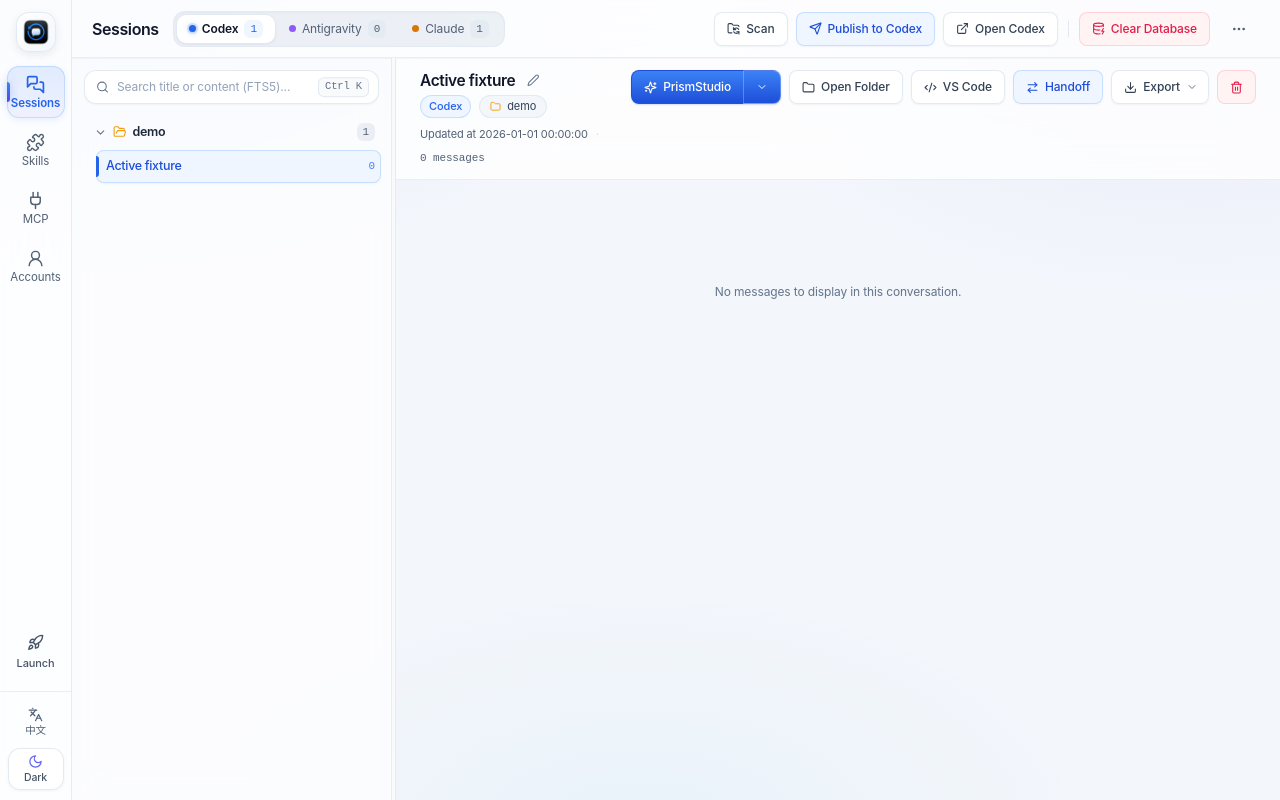
Test: archive option loads and hides archived conversations
The width and height of the screenshot is (1280, 800).
Expected: the text "Active fixture" is shown, [106, 158, 182, 173]
Expected: the text "Archived fixture" is not shown
What coordinates should you click on to do the following:
click the button named "More"
I would click on:
 (1239, 28)
Its box is [1218, 12, 1260, 46].
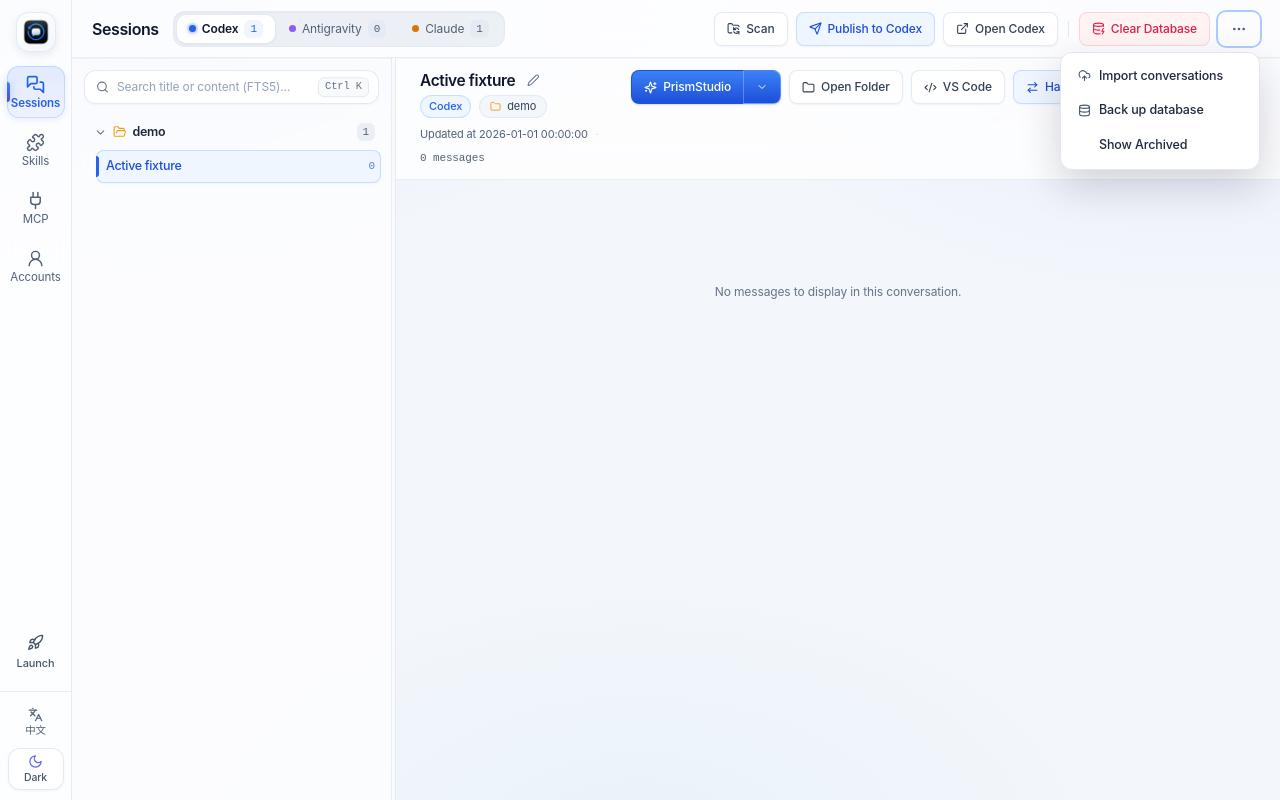
What coordinates should you click on to do the following:
click the menu item "Show Archived"
I would click on:
 (1160, 145)
Its box is [1067, 128, 1253, 163].
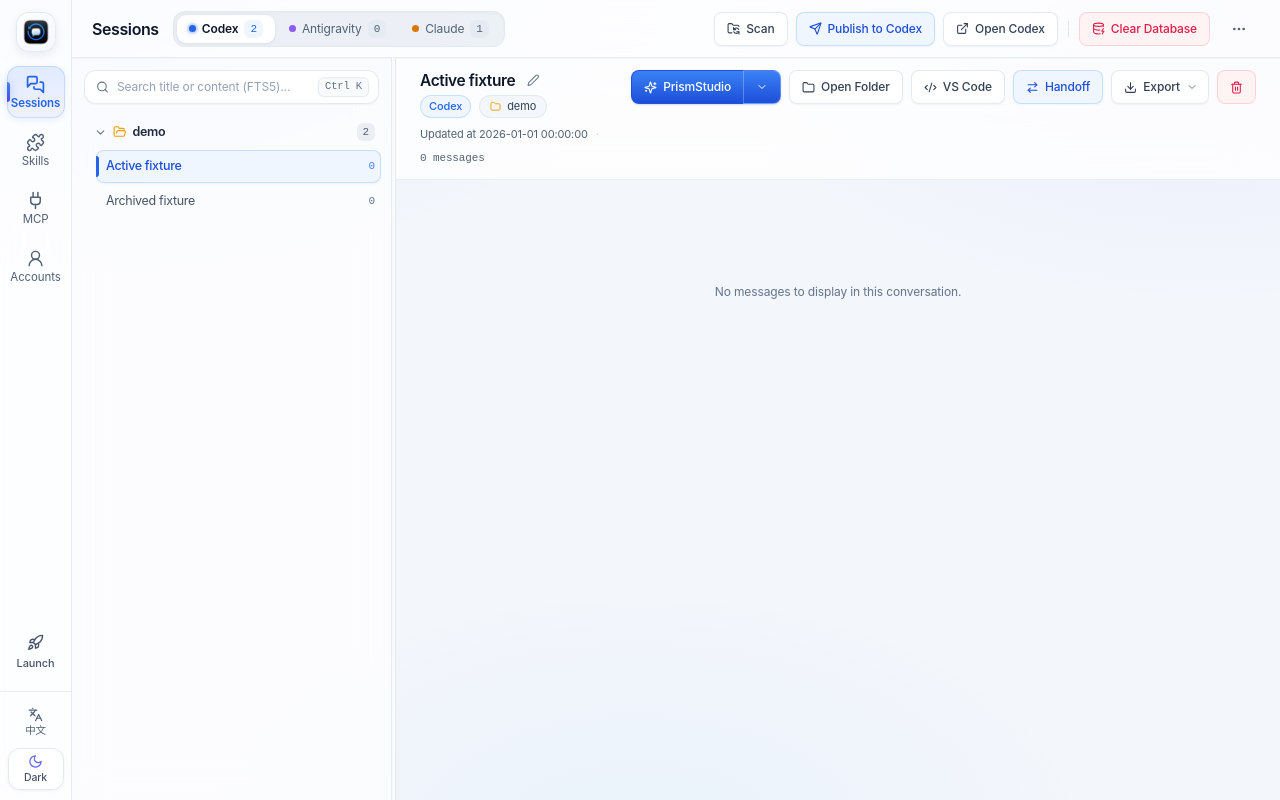
Result: the text "Archived fixture" is shown at [106, 193, 195, 208]
What coordinates should you click on to do the following:
click the button named "More"
I would click on:
 (1239, 28)
Its box is [1218, 12, 1260, 46].
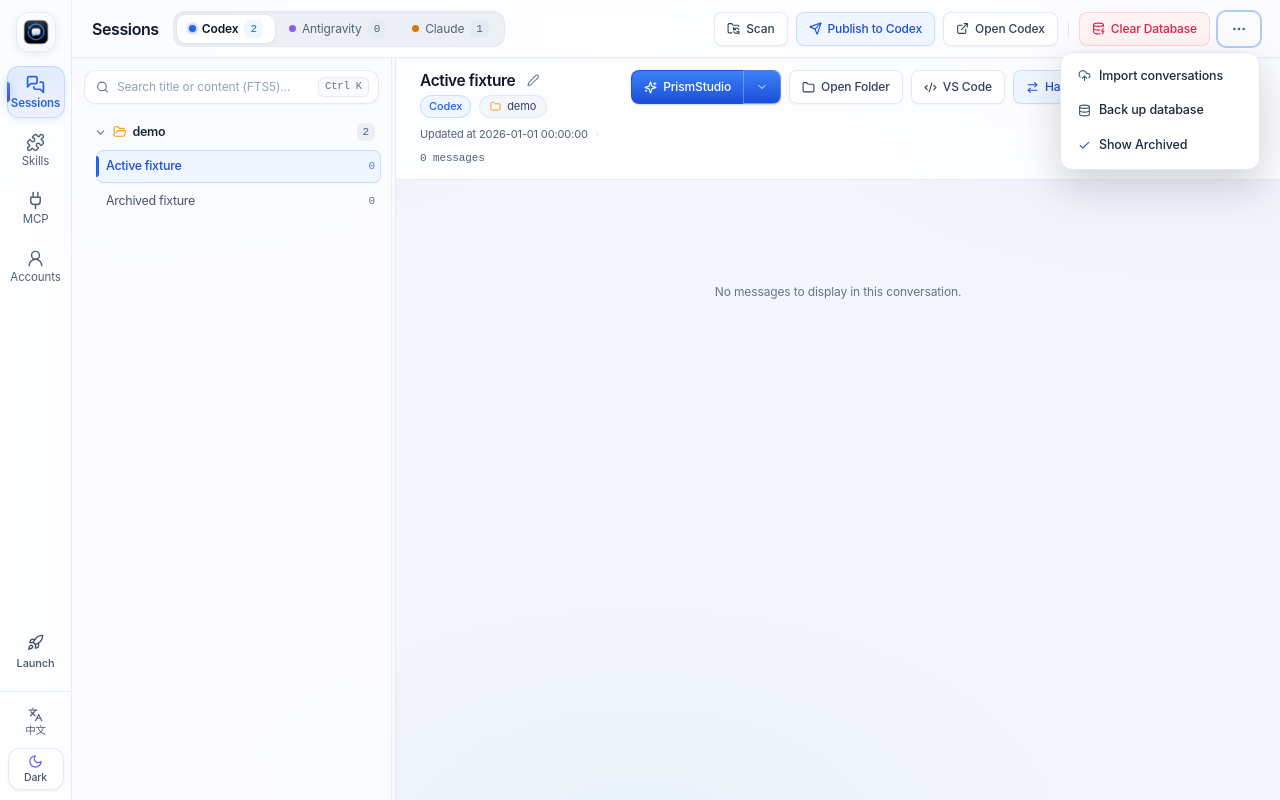
Result: the menu item "Show Archived" is checked
What coordinates should you click on to do the following:
click the menu item "Show Archived"
I would click on:
 (1160, 145)
Its box is [1067, 128, 1253, 163].
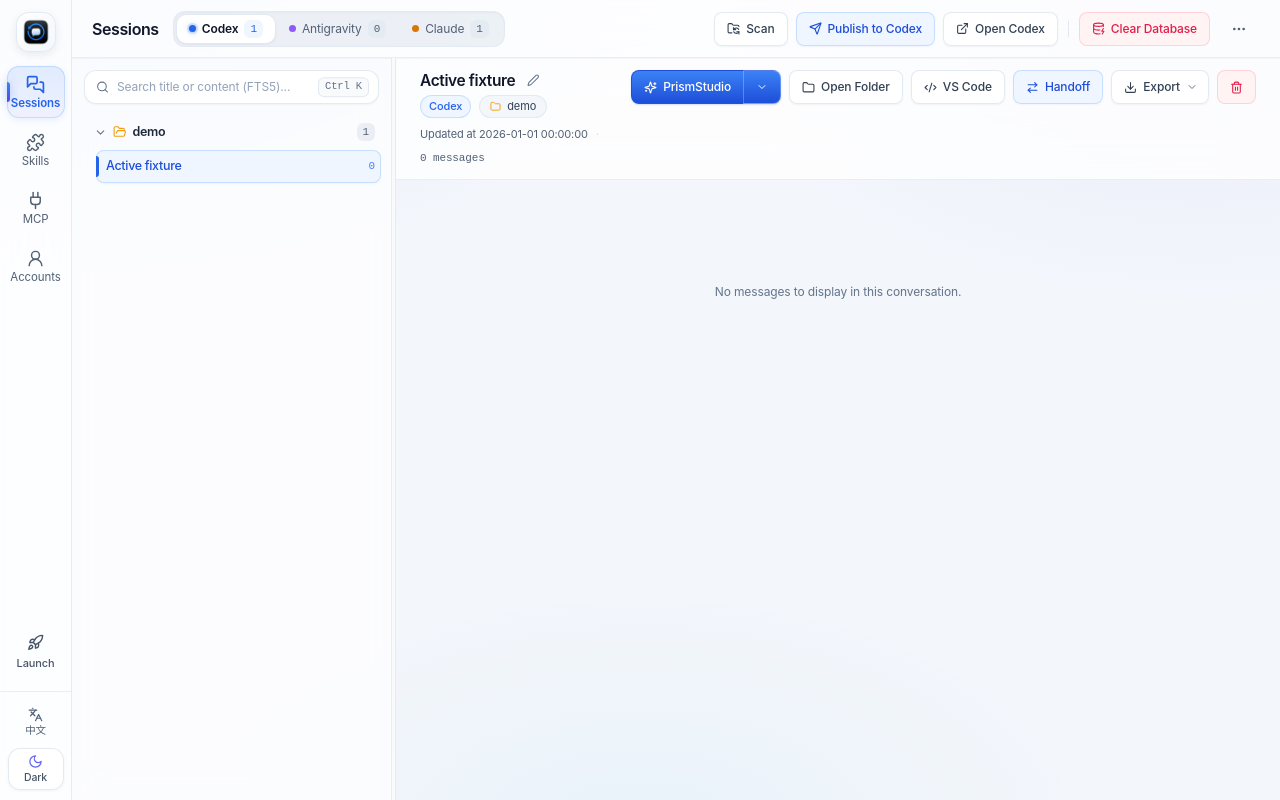
Expected: the text "Active fixture" is shown, [106, 158, 182, 173]
Result: the text "Archived fixture" is gone
